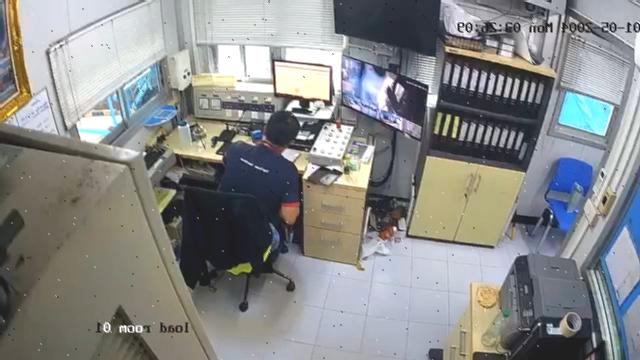Head: (260, 110, 301, 143)
People: (214, 110, 303, 226)
Phone: (305, 165, 332, 184), (317, 168, 343, 186)
